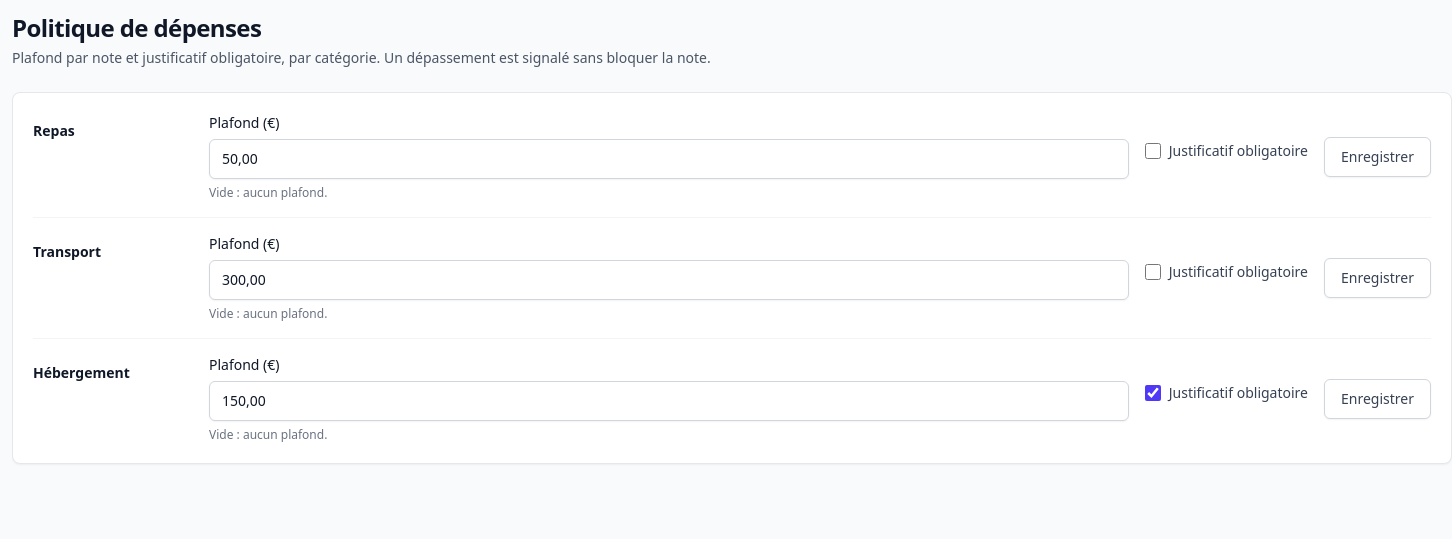
Test: PolicyPage › une erreur qui ne porte pas sur le plafond est annoncée sans marquer le champ invalide
Check: the element "Repas" is shown, box [33,113,1431,201]
What coordinates should you click on to do the following:
click the button "Enregistrer" in the row of "Repas"
I would click on:
 (1378, 157)
Its box is [1324,137,1431,177].
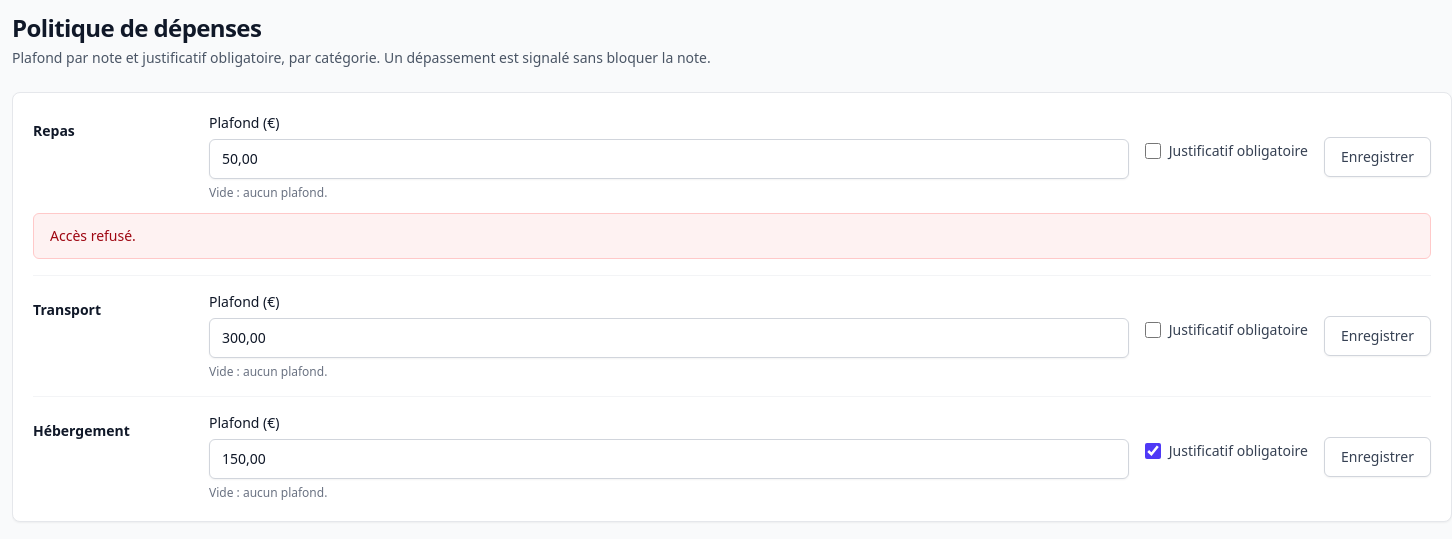
Check: the message reads "Accès refusé.", box [50,226,136,245]
